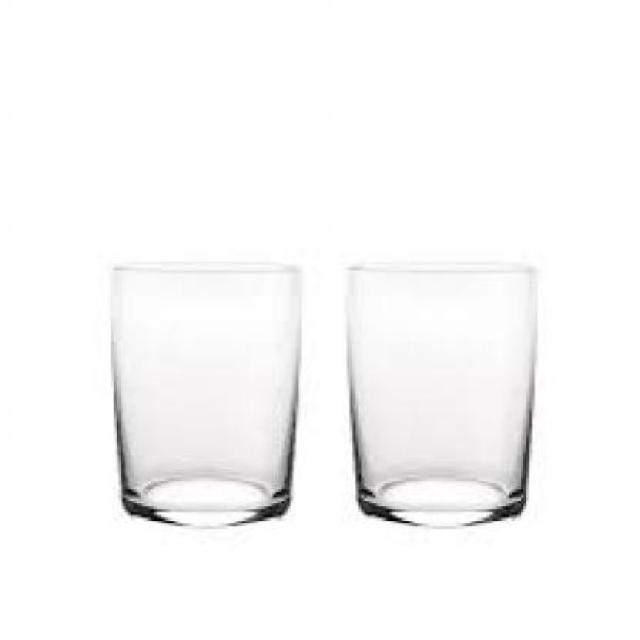kaca: (106, 262, 299, 523), (342, 262, 532, 526)
